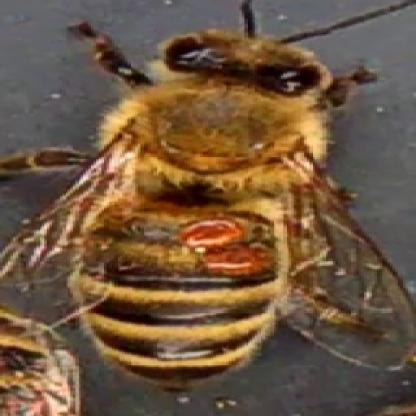bee: (92, 29, 294, 383)
vaoora: (209, 243, 271, 275), (183, 220, 243, 242)
